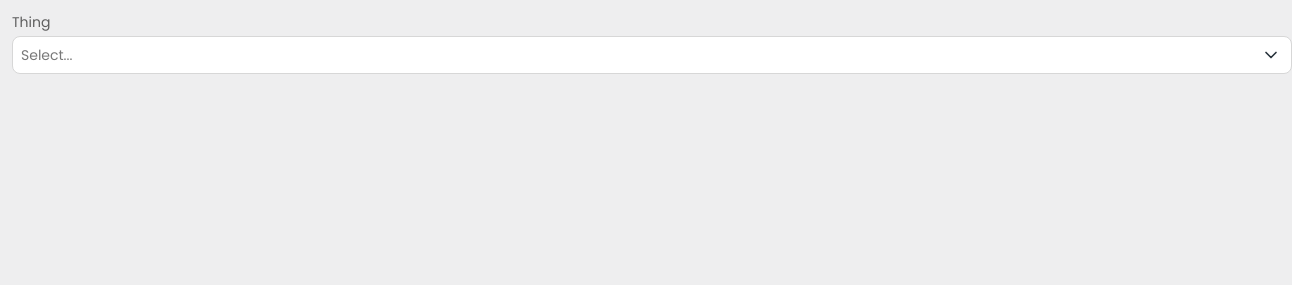
Test: people and pictures in the combo box › passes pictures and icons through ComboField, and options without one look as before
Click the dropdown labelled "Thing" at (634, 55), box [21,44,1247,66]
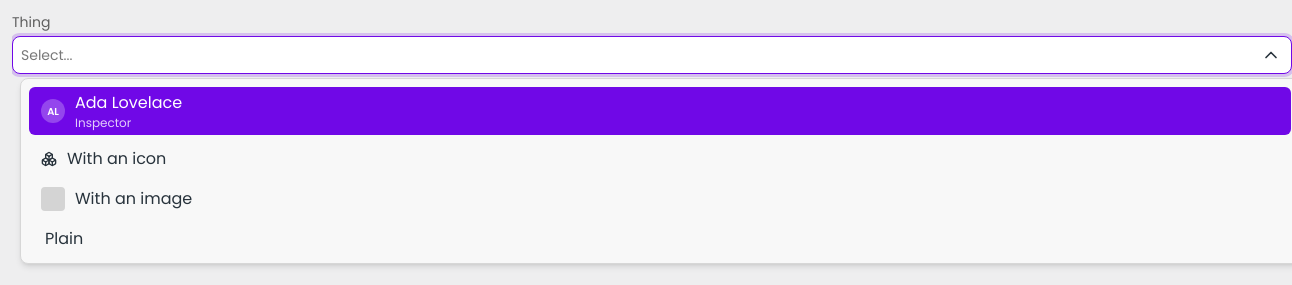
Now the text "AL" is shown, box [41,99,65,123]
Now the icon next to "With an icon" is shown, box [41,151,57,167]
